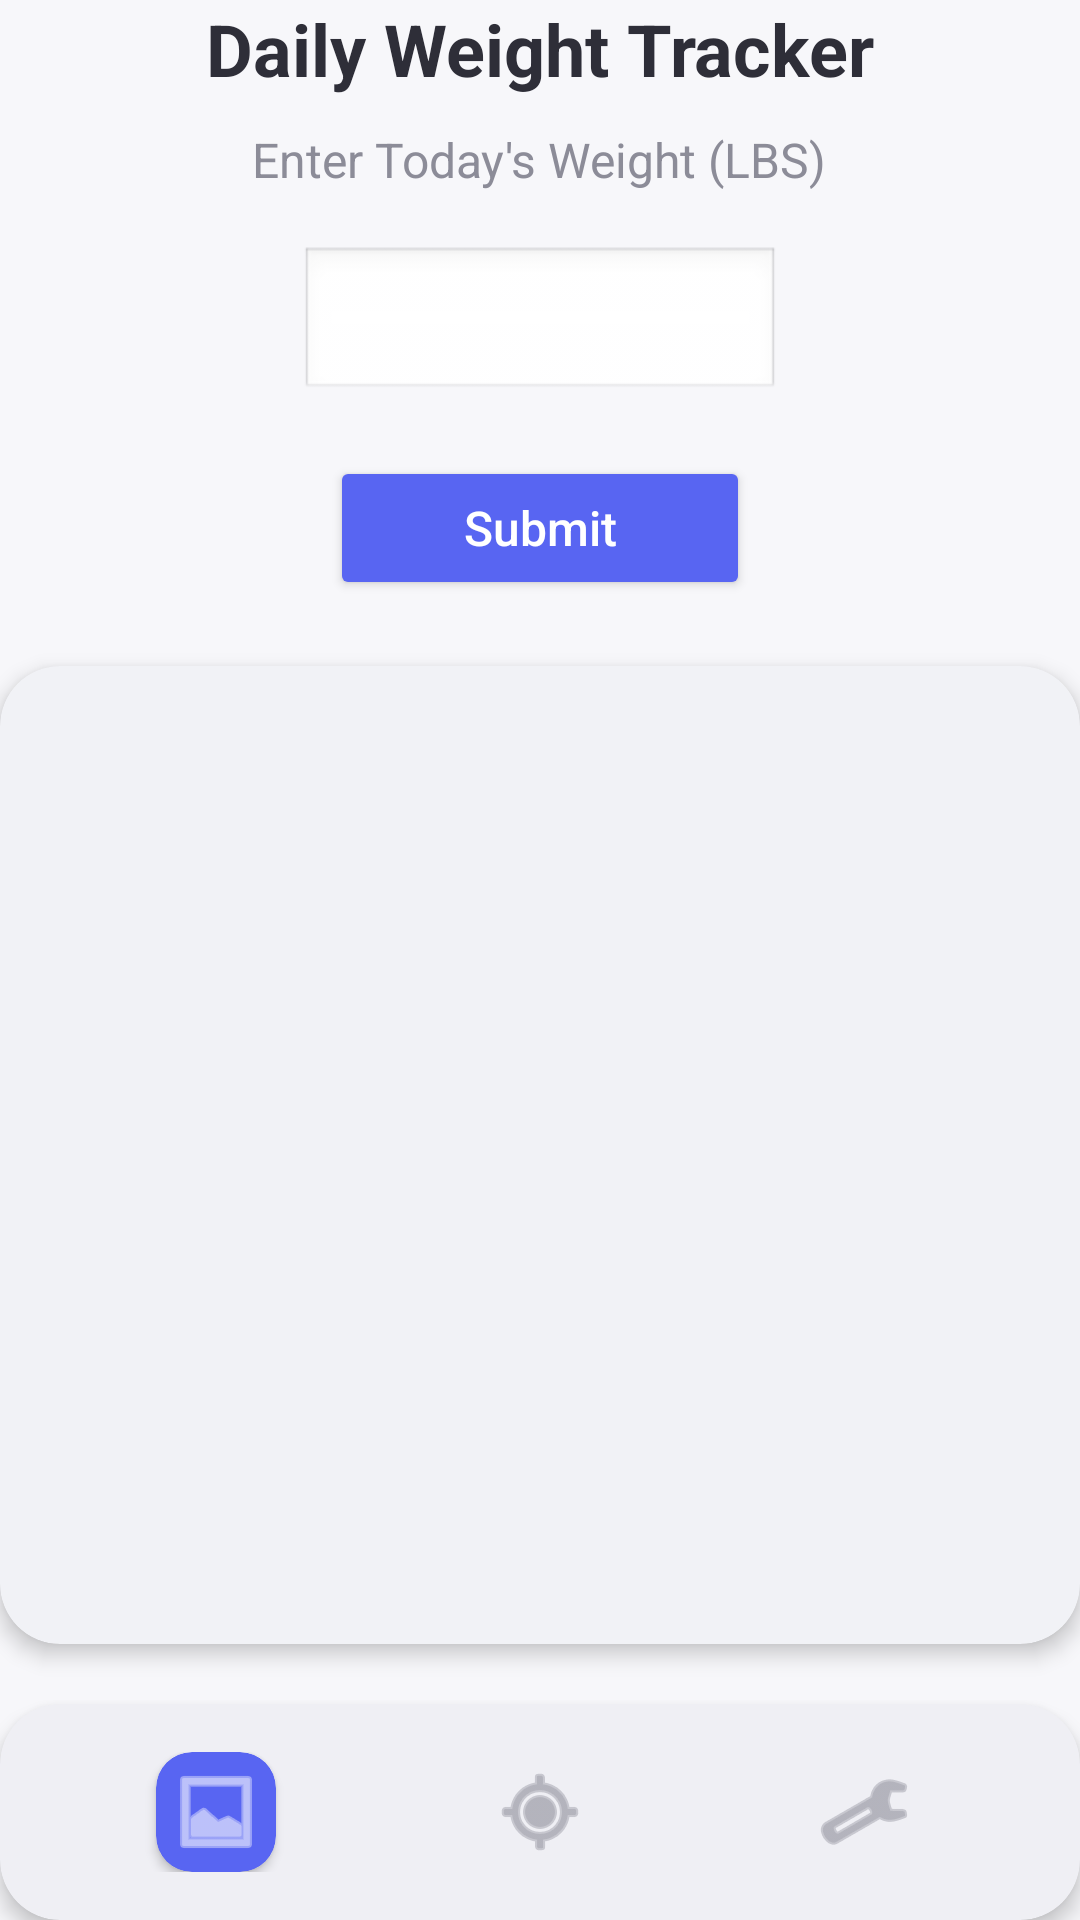

Icons on this 1080 × 1920 Android screen, each with its box as BBox(x1, y1, x2, y2):
gallery: BBox(156, 1752, 276, 1872)
manage: BBox(821, 1779, 907, 1845)
mylocation: BBox(502, 1774, 578, 1850)
